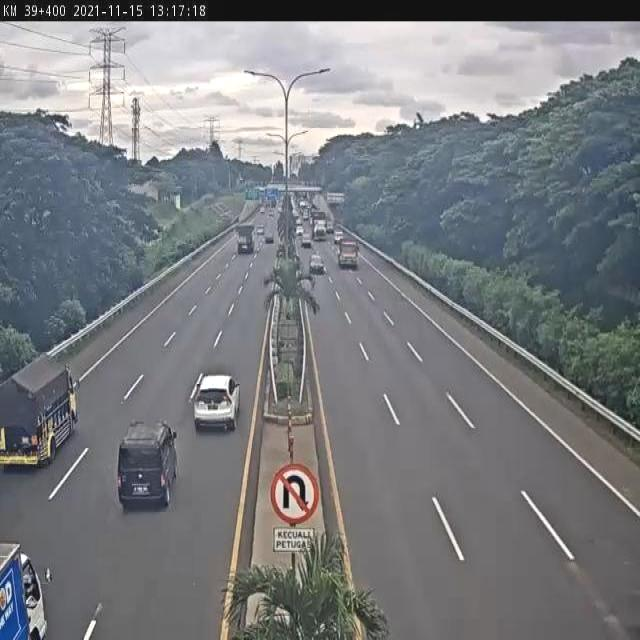Car: (193, 372, 243, 434), (309, 254, 324, 275)
Truck: (0, 357, 78, 472), (236, 222, 256, 254), (338, 238, 359, 266)
Van: (116, 417, 180, 512)
